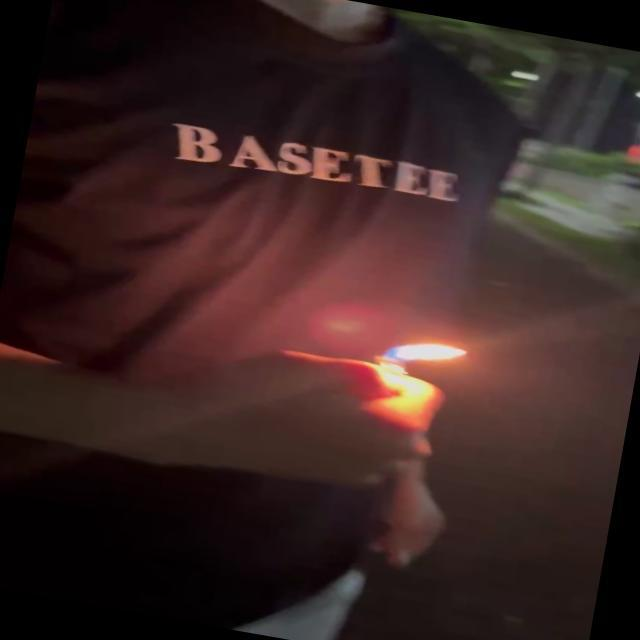Fire: (383, 329, 473, 382)
